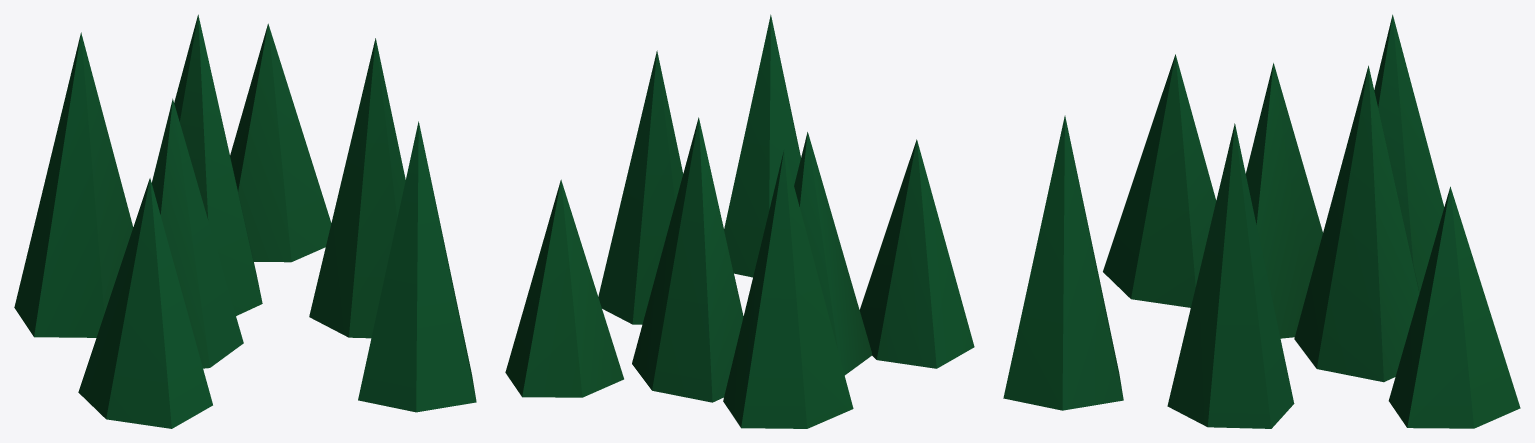
The model's file is forest_clump_conifer.glb.
3 renders of one model, left to right at view 1: azimuth 30°, elevation 25°; view 2: azimuth 150°, elevation 25°; view 3: azimuth 270°, elevation 25°, orthographic. The views are drawn at different scales.
Bounding box in the file's own units: 17.54 × 13.18 × 21.7.
